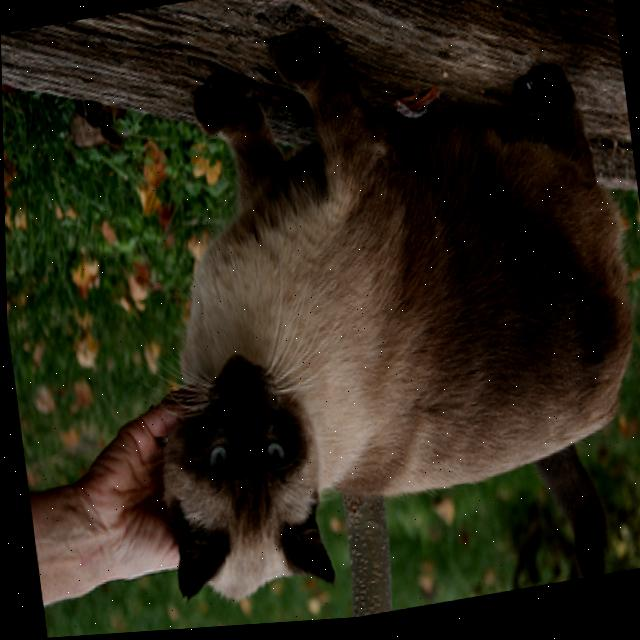Siamese: (101, 0, 640, 635)
